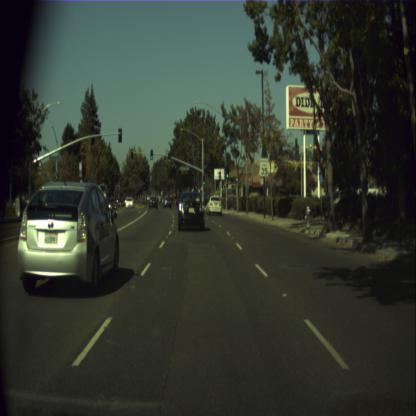Green: (226, 166, 229, 178), (150, 148, 152, 160), (168, 152, 170, 162), (202, 175, 204, 185)
Red: (53, 177, 56, 189), (130, 148, 132, 158)
